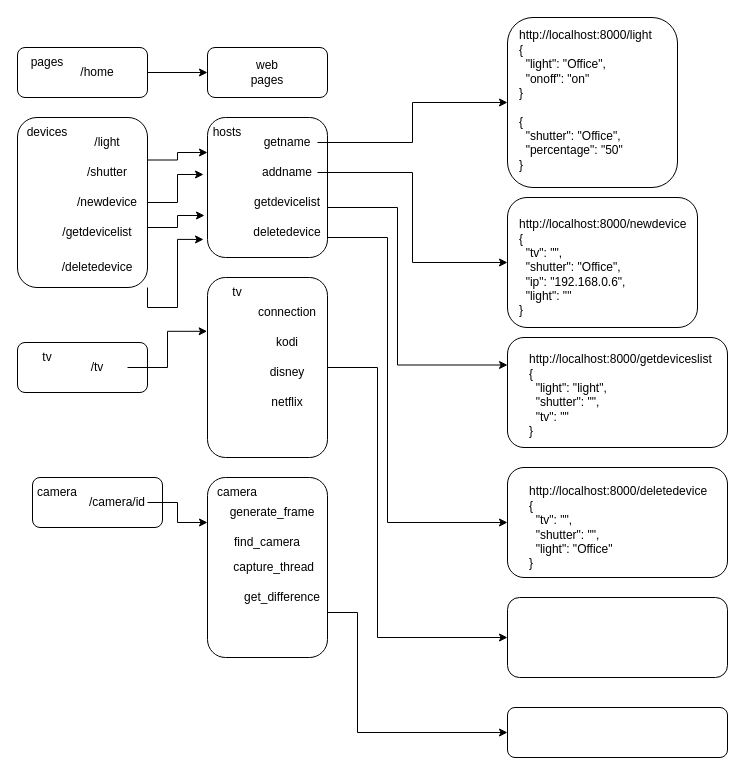
Some shapes in this 745 by 775 pixel diagram are drawn without their labels. Each missing label, with the centre of its shape:
http://localhost:8000/camera/0: point (617, 732)
http://localhost:8000/tv { "channel": "netflix" }: point (617, 637)
